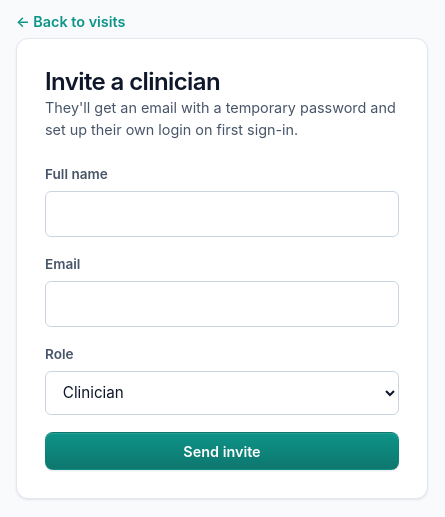
Test: InviteClinician › disables the submit button and swaps its label while busy
Type "Bob Smith" into the field labelled "Full name" at (222, 214), box [45,191,399,237]
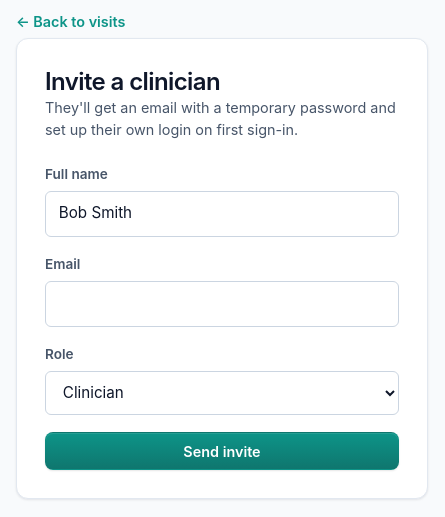
Type "bob@x.test" into the field labelled "Email" at (222, 304), box [45,281,399,326]
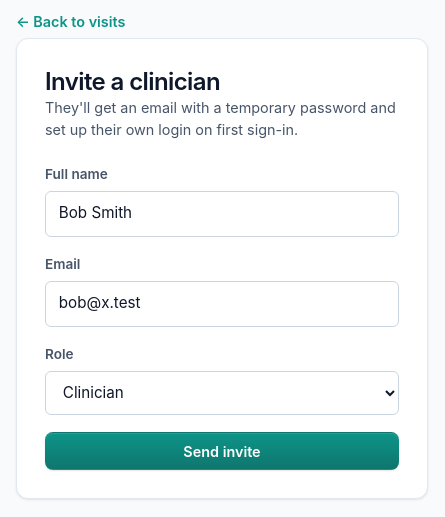
Click the button "Send invite" at (222, 451), box [45,432,399,470]
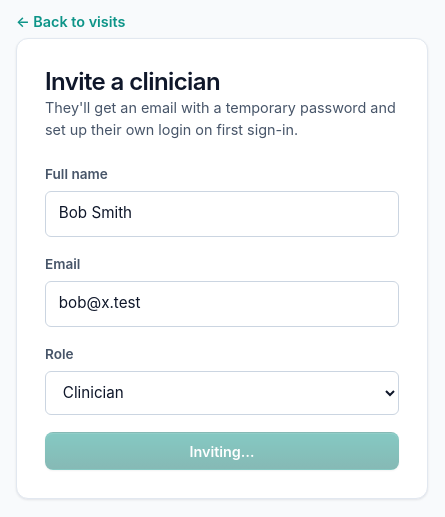
expect the button "Inviting…" is disabled: met, box [45,432,399,470]
